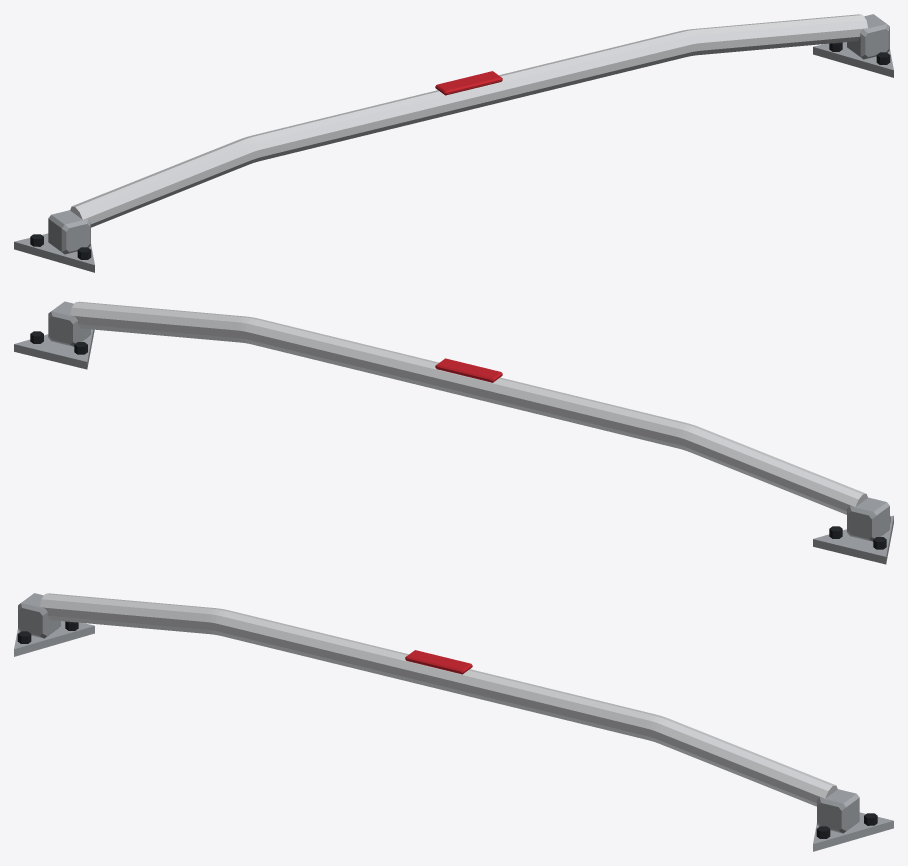
File: hana_roadster.glb
3 views of the same model, one above another, from view 1: azimuth 30°, elevation 25°; view 2: azimuth 150°, elevation 25°; view 3: azimuth 330°, elevation 25° (orthographic).
Visible parts, largest first — view 1: model; view 2: model; view 3: model.
Part boxes in pixels (left/top/right/bottom): model: left=14, top=14, right=893, bottom=272; model: left=14, top=301, right=893, bottom=564; model: left=14, top=593, right=893, bottom=851.
Bounding box in the file's own units: 1.19 × 0.0989 × 0.105.
3 materials, 1 textured.
